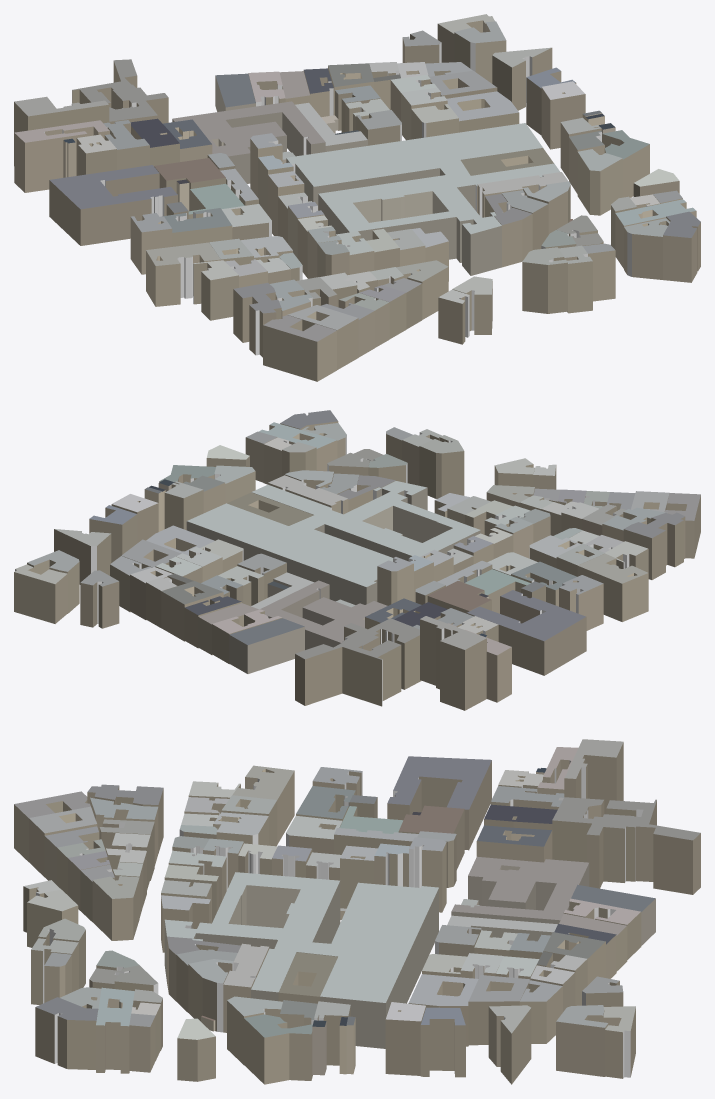
3 views of the same model, one above another, from view 1: azimuth 30°, elevation 25°; view 2: azimuth 150°, elevation 25°; view 3: azimuth 270°, elevation 25° (orthographic). The views are drawn at different scales.
Parts seen in each view (by area): view 1: tuile; view 2: tuile; view 3: tuile.
Part boxes in pixels (x1,y1,x2,y2): tuile: [14, 14, 700, 381]; tuile: [14, 410, 700, 710]; tuile: [14, 739, 700, 1084].
Size of the model in its own units: 283 by 45.69 by 295.
